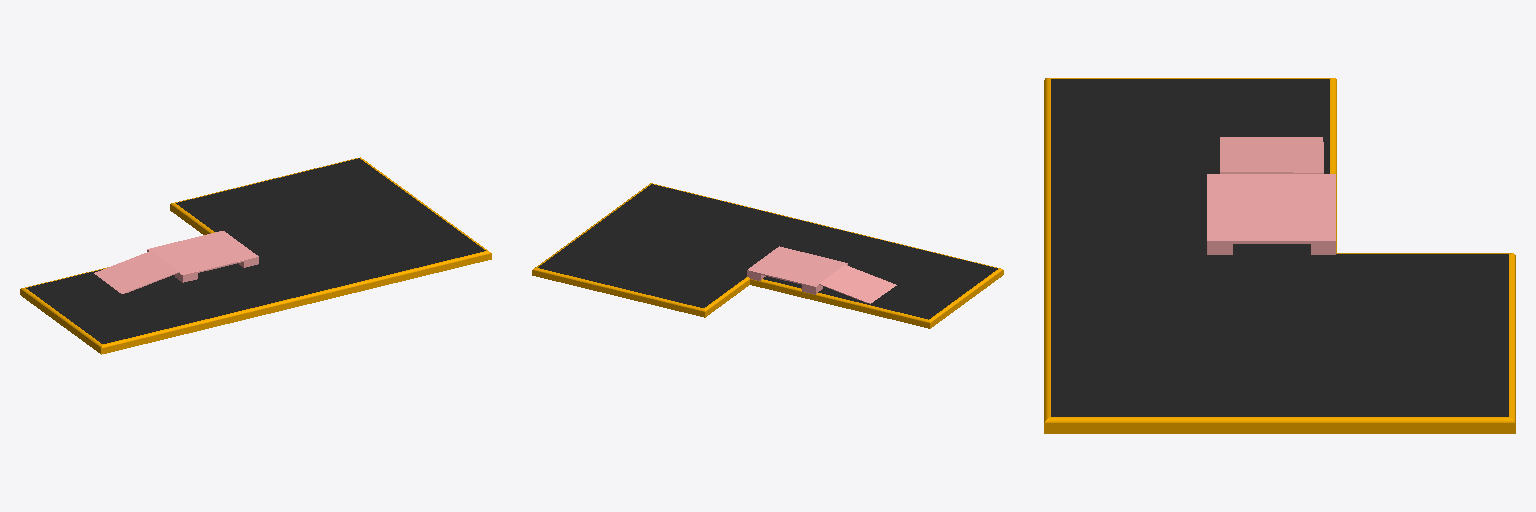
URDF robot description (stairs):
<?xml version="1.0" ?>

<robot name="stairs">

  <link name="world"/>

  <link name="track_edge">
  <contact>
      <lateral_friction value="1"/>
  </contact>
    <inertial>
      <origin rpy="0 0 0" xyz="0 0 0"/>
       <mass value=".0"/>
       <inertia ixx="0" ixy="0" ixz="0" iyy="0" iyz="0" izz="0"/>
    </inertial>
    <visual>
      <origin rpy="0 0 0" xyz="0 0 0"/>
      <geometry name="track_edge">
        <mesh filename="assets/track_edge.obj" scale="1 1 1"/>
      </geometry>
       <material name="orange">
            <color rgba="1 0.7 0.0 1"/>
       </material>
    </visual>
    <collision>
      <origin rpy="0 0 0" xyz="0 0 0"/>
      <geometry name="track_edge">
        <mesh filename="assets/track_edge.obj" scale="1 1 1"/>
      </geometry>
    </collision>
  </link>

  <link name="track_core">
  <contact>
      <lateral_friction value="1"/>
  </contact>
    <inertial>
      <origin rpy="0 0 0" xyz="0 0 0"/>
       <mass value=".0"/>
       <inertia ixx="0" ixy="0" ixz="0" iyy="0" iyz="0" izz="0"/>
    </inertial>
    <visual>
      <origin rpy="0 0 0" xyz="0 0 0"/>
      <geometry name="track_core">
        <mesh filename="assets/track_core.obj" scale="1 1 1"/>
      </geometry>
       <material name="darkgray">
            <color rgba="0.2 0.2 0.2 1"/>
       </material>
    </visual>
    <collision>
      <origin rpy="0 0 0" xyz="0 0 0"/>
      <geometry name="track_core">
        <mesh filename="assets/track_core.obj" scale="1 1 1"/>
      </geometry>
    </collision>
  </link>
  
  <link name="ramp">
  <contact>
      <lateral_friction value="1"/>
  </contact>
    <inertial>
      <origin rpy="0 0 0" xyz="0 0 0"/>
       <mass value=".0"/>
       <inertia ixx="0" ixy="0" ixz="0" iyy="0" iyz="0" izz="0"/>
    </inertial>
    <visual>
      <origin rpy="1.570796327 0 -1.570796327" xyz="0 0 0"/>
      <geometry name="ramp">
        <mesh filename="assets/box_ramp.obj" scale="1 1 1.3"/>
      </geometry>     
        <material name="powder">
          <color rgba="1 0.7 0.7 1"/>orange
        </material>
    </visual>
    <collision>
      <origin rpy="1.570796327 0 -1.570796327" xyz="0 0 0"/>
      <geometry name="ramp">
        <mesh filename="assets/box_ramp.obj" scale="1 1 1.3"/>
      </geometry>
    </collision>
  </link>

  <!-- Joints -->
  <joint name="world_to_track" type="fixed">
    <parent link="world"/>
    <child link="track_core"/>
    <origin rpy="0 0 1.57079" xyz="3 -0.525 0.05"/>
  </joint>

  <joint name="track_to_edge" type="fixed">
    <parent link="track_core"/>
    <child link="track_edge"/>
    <origin rpy="0 0 0" xyz="0 0 0"/>
  </joint>

  <joint name="track_to_ramp" type="fixed">
    <parent link="track_core"/>
    <child link="ramp"/>
    <origin rpy="0 0 3.14159" xyz="0.65 3.8 -0.05"/>
  </joint>

</robot>

--- Facts derived from the render (not from the file) ---
The picture shows the robot from 3 angles, left to right: view 1: azimuth 30°, elevation 25°; view 2: azimuth 150°, elevation 25°; view 3: azimuth 270°, elevation 25°; orthographic projection.
Model stairs with 4 links and 3 joints (3 fixed), rooted at world, posed every joint at zero.
Visible links, largest first — view 1: track_core, track_edge, ramp; view 2: track_core, track_edge, ramp; view 3: track_core, ramp, track_edge.
Boxes of the visible links, x1=… form: track_core: x1=26, y1=158, x2=485, y2=343; track_edge: x1=20, y1=157, x2=491, y2=354; ramp: x1=94, y1=231, x2=258, y2=293; track_core: x1=538, y1=184, x2=997, y2=319; track_edge: x1=532, y1=183, x2=1003, y2=328; ramp: x1=747, y1=246, x2=896, y2=303; track_core: x1=1051, y1=79, x2=1508, y2=416; ramp: x1=1207, y1=137, x2=1335, y2=254; track_edge: x1=1044, y1=78, x2=1515, y2=433.
Size in the robot's own frame: 5.09 by 2.95 by 0.2049 metres.
Meshes: 3 distinct files referenced, 3 mesh visuals loaded (3 OBJ).